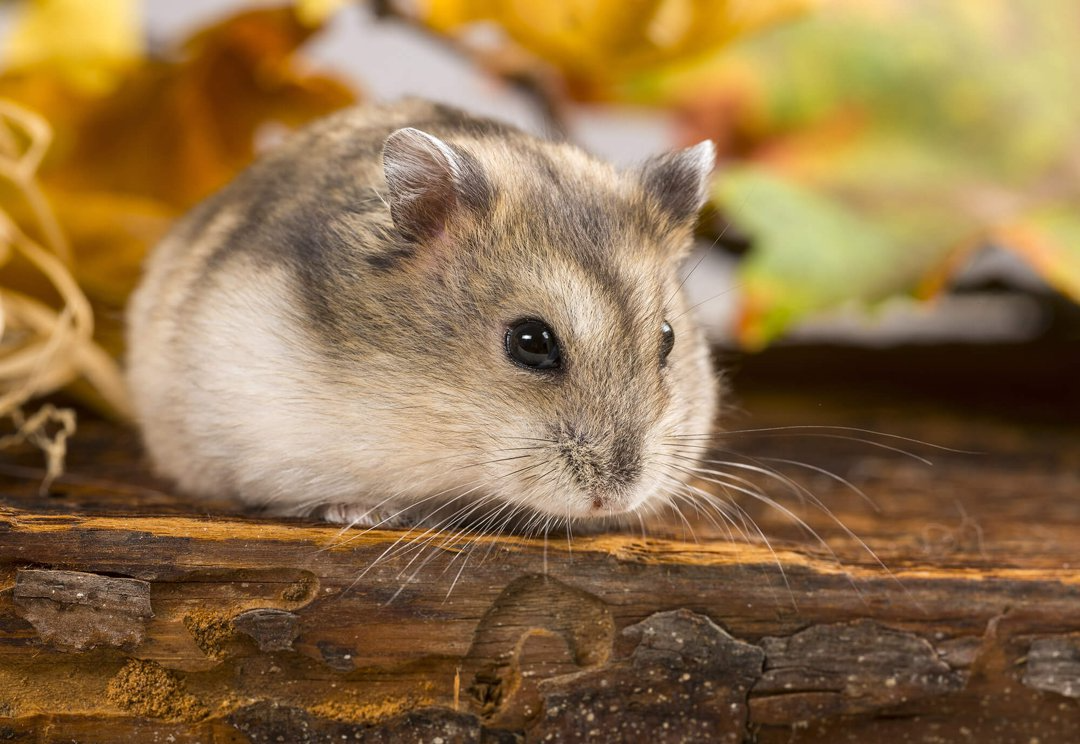hamester: (136, 95, 803, 586)
